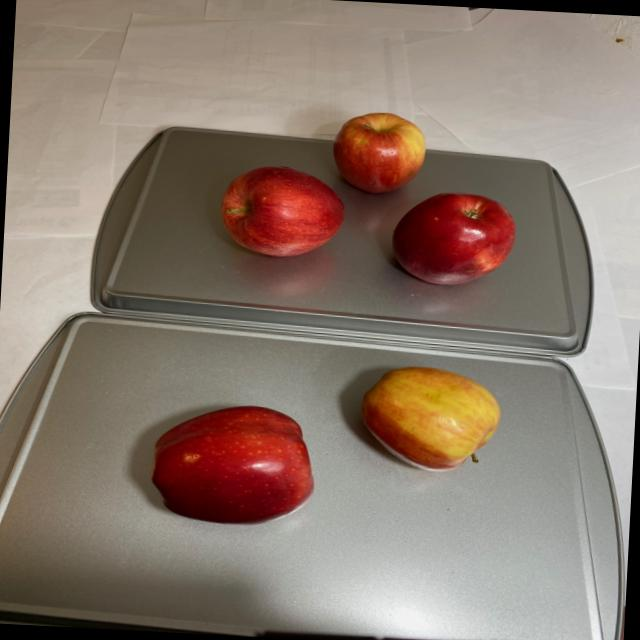apple: (145, 350, 510, 538), (210, 103, 526, 293)
